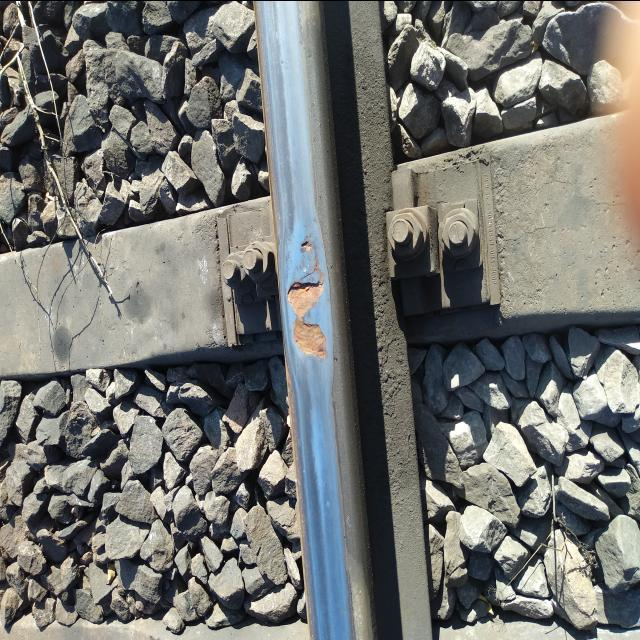broken_rail_medium: (286, 277, 330, 359), (300, 239, 318, 281)
head_checks_high: (279, 226, 340, 394)
